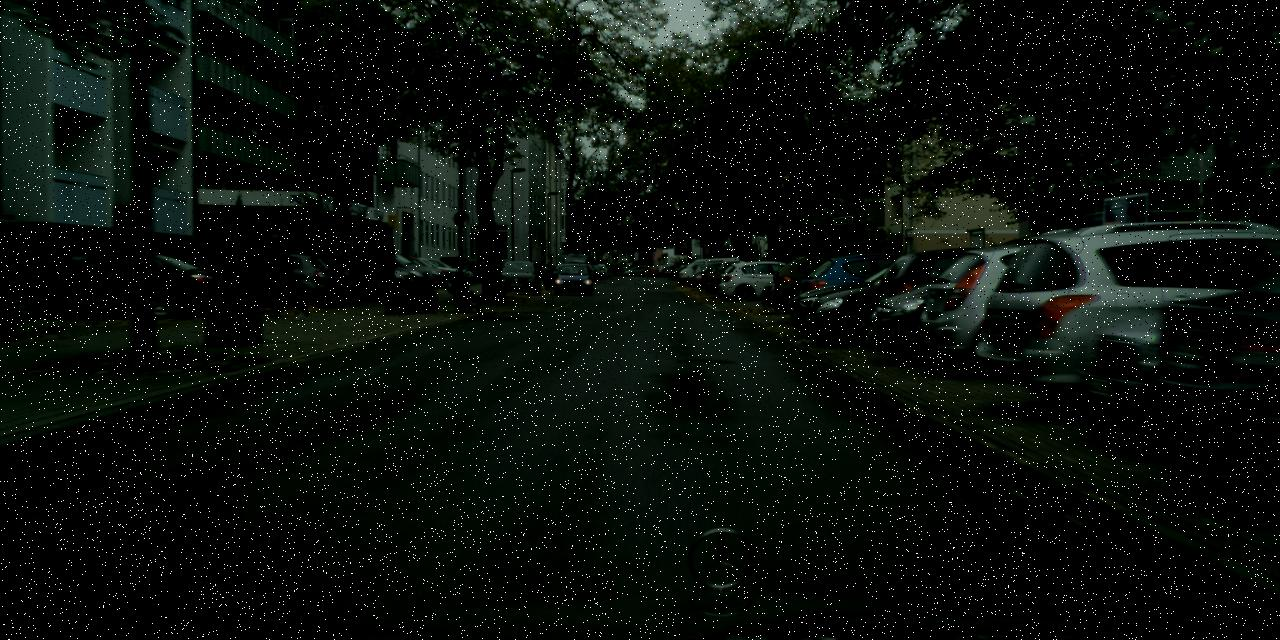ped: (260, 234, 292, 316)
